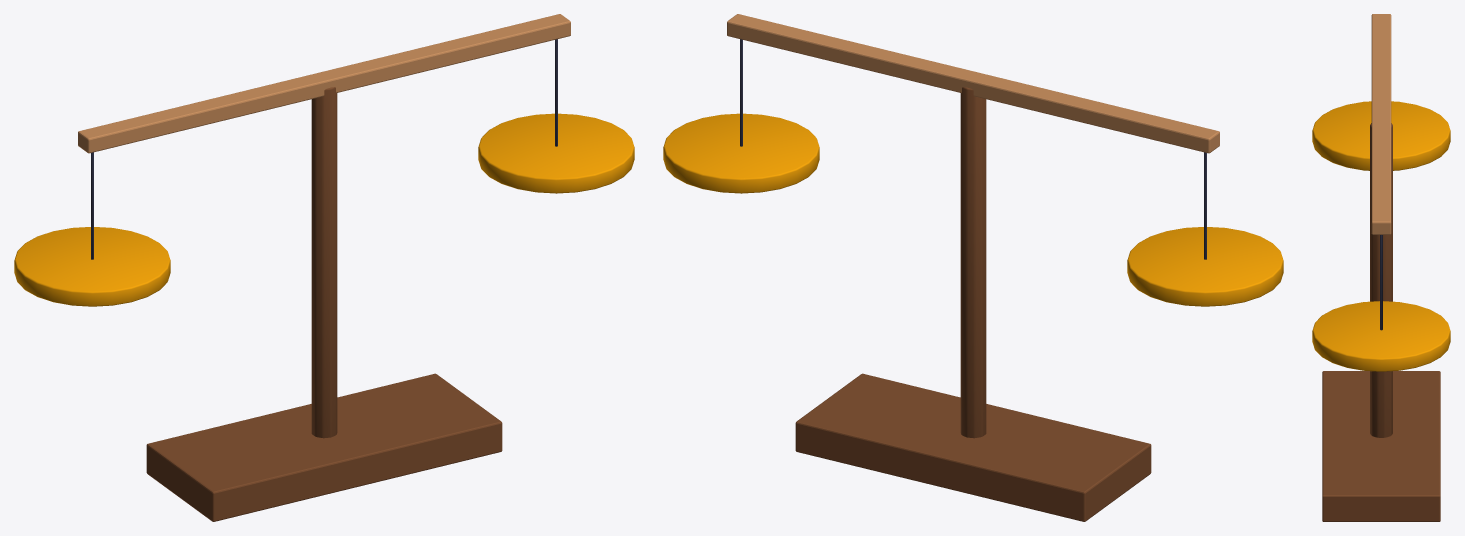
File: balance_scale.glb
3 renders of one model, left to right at view 1: azimuth 30°, elevation 25°; view 2: azimuth 150°, elevation 25°; view 3: azimuth 270°, elevation 25°, orthographic. The views are drawn at different scales.
Parts seen in each view (by area): view 1: balance_scale; view 2: balance_scale; view 3: balance_scale.
Part boxes in pixels (bbox=[...]): balance_scale: bbox=[14, 14, 634, 521]; balance_scale: bbox=[663, 14, 1283, 521]; balance_scale: bbox=[1312, 14, 1450, 521].
Bounding box in the file's own units: 0.62 × 0.3825 × 0.14.
